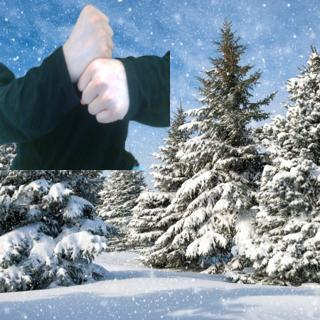CAREFUL: (61, 1, 130, 131)
